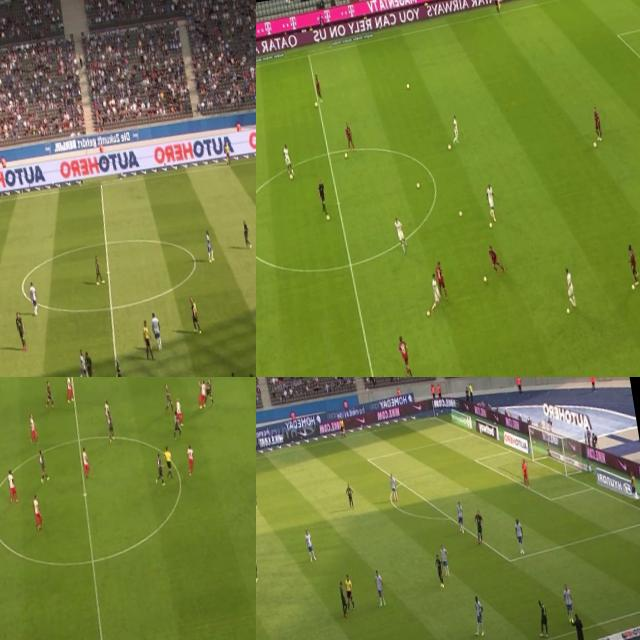ball: (343, 150, 350, 161), (425, 308, 432, 319), (414, 179, 420, 190), (288, 171, 294, 182), (482, 272, 488, 282), (446, 142, 452, 150), (458, 208, 462, 218), (487, 222, 493, 228), (406, 81, 410, 90), (326, 213, 330, 220), (631, 282, 635, 288), (566, 306, 570, 312)
player: (467, 592, 488, 640), (560, 580, 576, 626), (394, 338, 412, 377), (533, 596, 551, 635), (13, 310, 29, 352), (150, 312, 166, 352), (426, 273, 444, 308), (335, 576, 349, 618), (432, 552, 447, 591), (152, 452, 167, 490), (564, 270, 578, 310), (435, 261, 449, 301), (6, 466, 20, 506), (471, 509, 486, 546), (452, 498, 467, 534), (373, 570, 388, 606), (590, 106, 604, 144), (187, 294, 200, 334), (31, 492, 44, 531), (627, 244, 640, 282), (184, 441, 198, 475), (27, 280, 40, 316), (74, 348, 90, 377), (486, 184, 498, 222), (281, 142, 294, 177), (173, 393, 186, 428), (488, 244, 502, 276), (396, 217, 408, 254), (514, 518, 526, 554), (303, 528, 315, 564), (520, 456, 532, 491), (440, 544, 452, 578), (81, 350, 96, 377), (204, 230, 216, 263), (162, 379, 174, 412), (201, 377, 215, 405), (26, 407, 37, 442), (450, 115, 462, 146), (102, 398, 114, 429), (105, 411, 116, 444), (80, 443, 91, 476), (197, 377, 208, 410), (92, 256, 104, 286), (240, 219, 252, 248), (38, 450, 48, 483), (42, 377, 53, 407), (110, 359, 128, 377), (63, 377, 74, 405), (344, 122, 354, 152), (313, 72, 323, 102), (172, 410, 182, 440), (345, 482, 355, 512), (389, 471, 398, 500), (256, 548, 260, 583), (256, 479, 260, 513)
